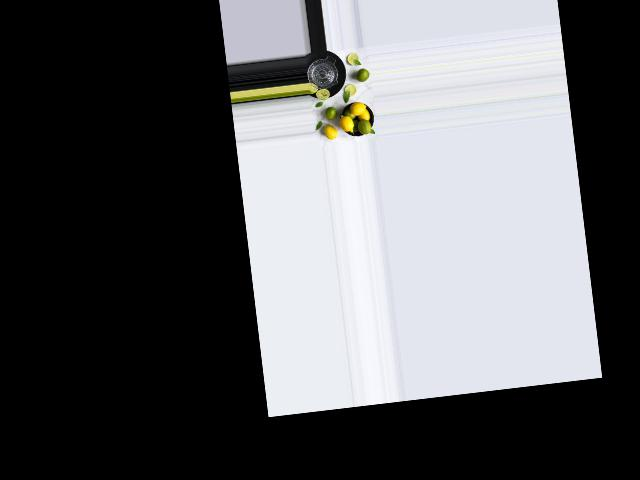lemon: (356, 67, 369, 83)
